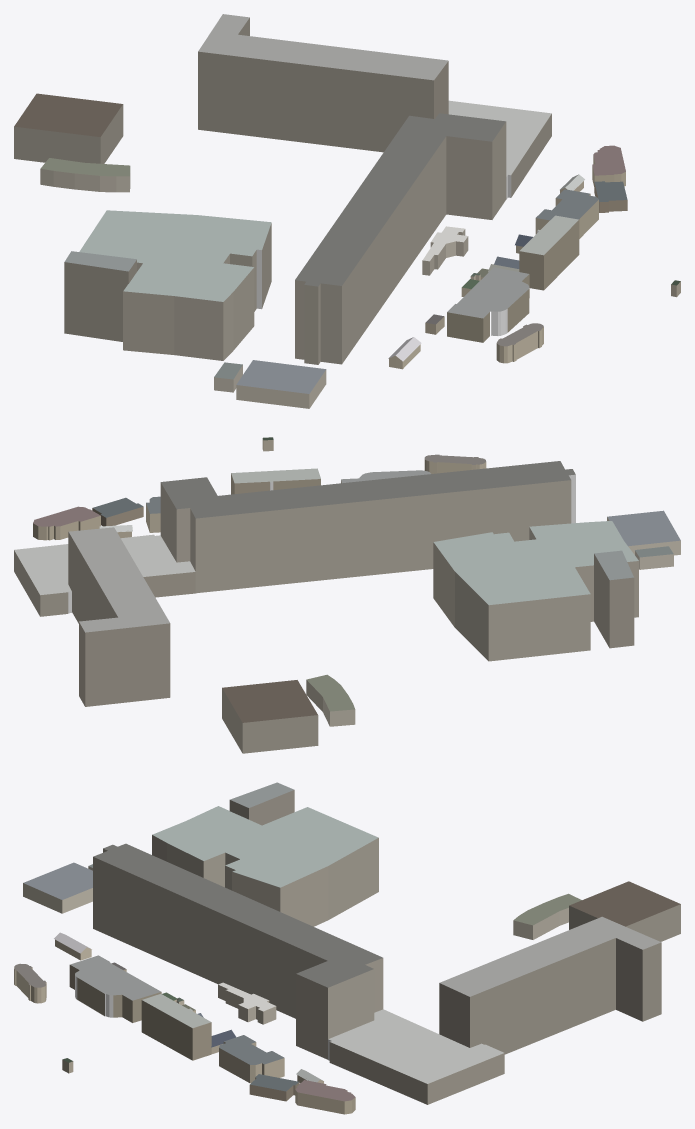
The picture shows the model from 3 angles, top to bottom: view 1: azimuth 30°, elevation 25°; view 2: azimuth 150°, elevation 25°; view 3: azimuth 270°, elevation 25°; orthographic projection. The views are drawn at different scales.
Visible parts, largest first — view 1: tuile; view 2: tuile; view 3: tuile.
Boxes of the visible parts, x1=… form: tuile: x1=14, y1=14, x2=680, y2=408; tuile: x1=14, y1=437, x2=680, y2=753; tuile: x1=14, y1=782, x2=680, y2=1114.
Bounding box in the file's own units: 257 × 32.99 × 272.
